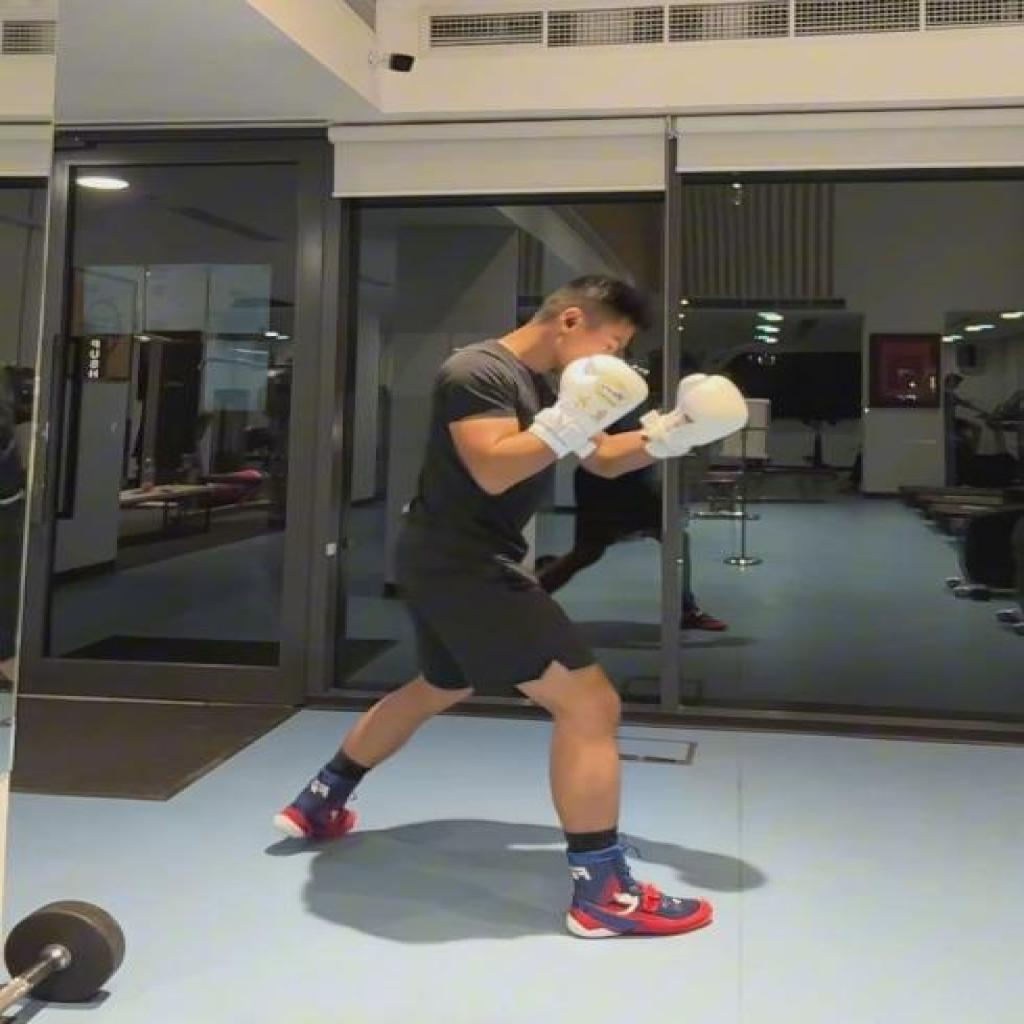uppercut: (280, 268, 754, 942)
